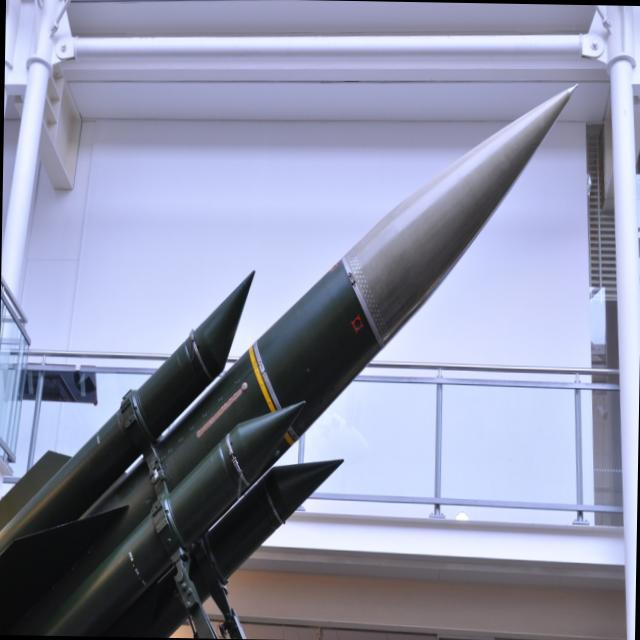rocket: (1, 75, 578, 640)
